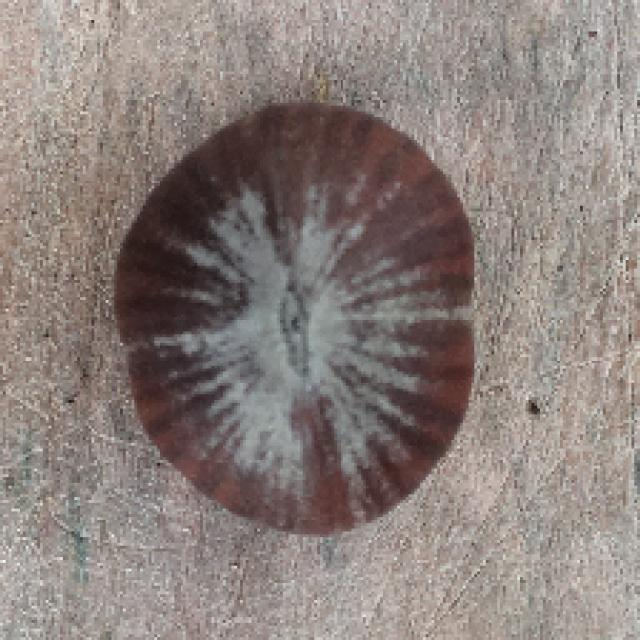damagedHazelnut: (105, 88, 488, 536)
